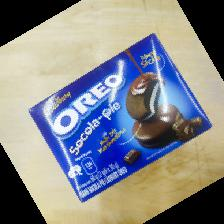Oreo: (28, 33, 214, 203)
